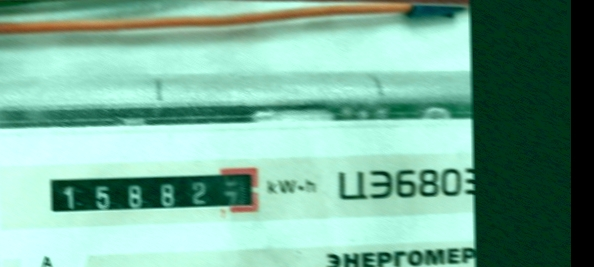1: (64, 181, 77, 210)
2: (191, 179, 208, 206)
5: (95, 182, 113, 213)
7: (224, 188, 237, 205)
8: (127, 182, 143, 210), (160, 180, 176, 208)
screen: (39, 158, 267, 224)
